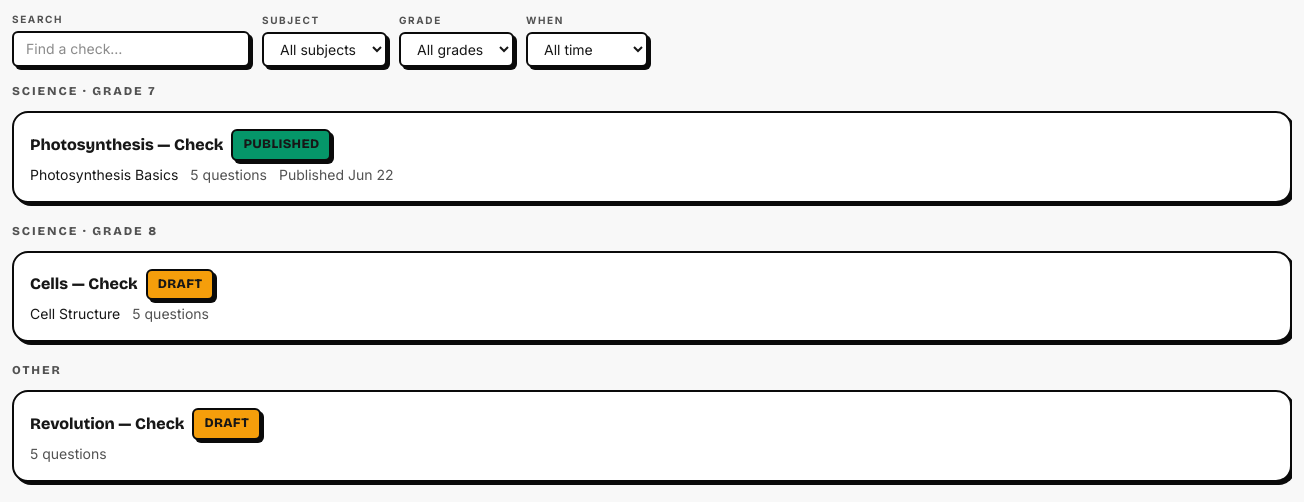
QuizLibrary › groups rows under Subject · Grade headers and the Subject filter narrows the list
Expected: the heading "SCIENCE · GRADE 7" is shown, 12,84 -> 156,98
Expected: the heading "SCIENCE · GRADE 8" is shown, 12,224 -> 158,238
# Narrow to grade 8 → only the Cells check remains.
Select "Grade 8" in the dropdown labelled "Grade": (456, 50) 399,32 -> 514,67
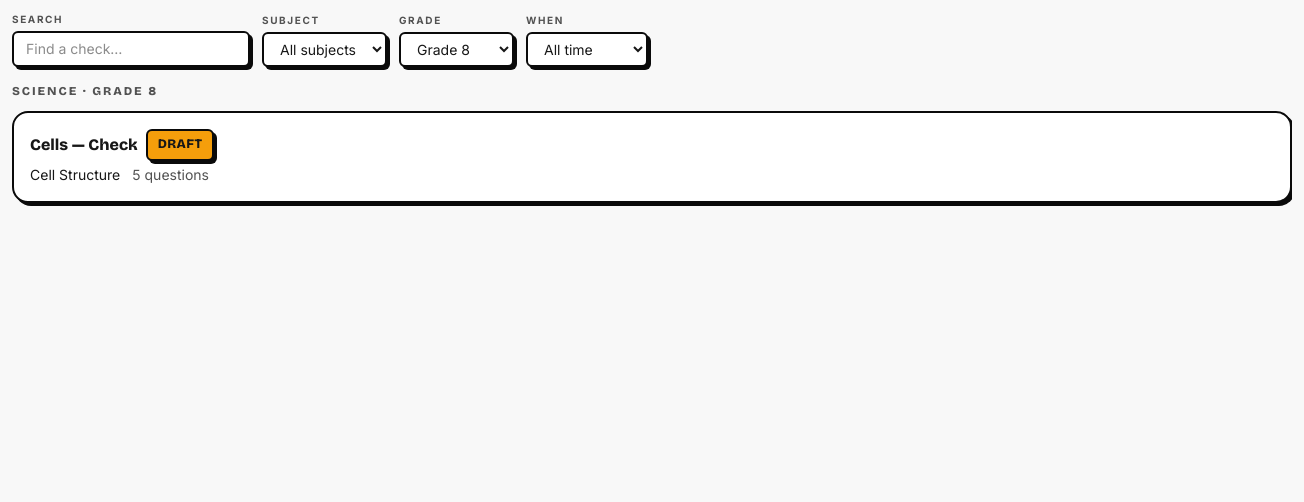
Expected: the text "Cells — Check" is shown, 30,133 -> 138,157
Expected: the button "Photosynthesis — Check" is gone
